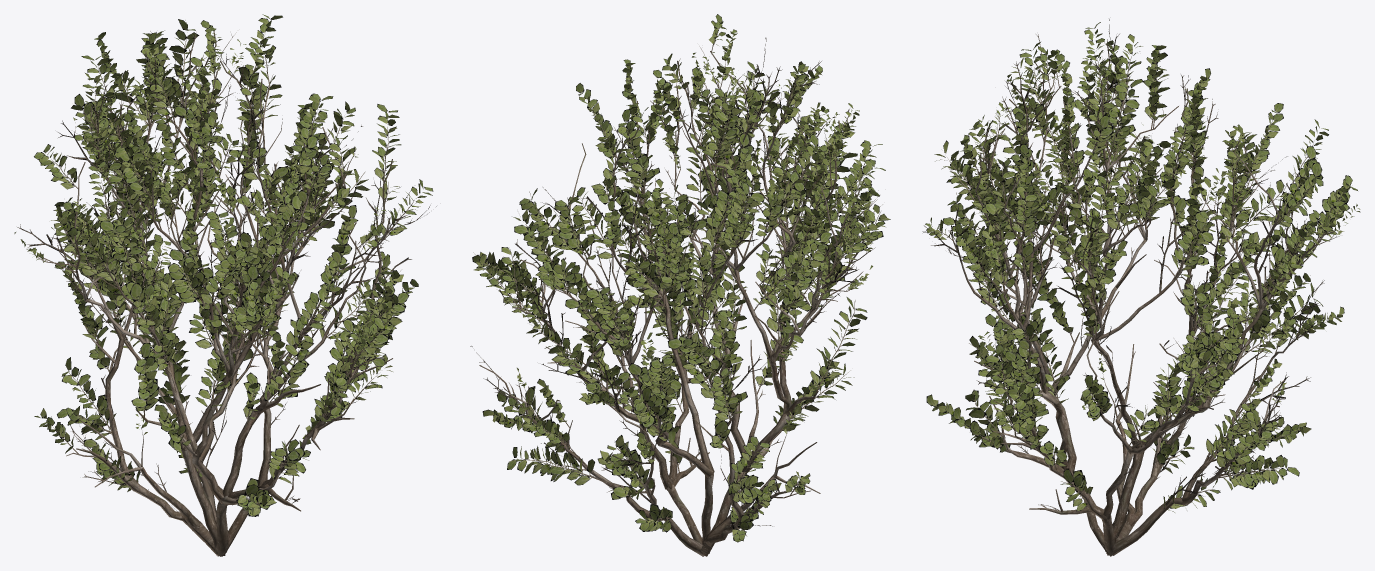
File: olive_b.glb
3 renders of one model, left to right at view 1: azimuth 30°, elevation 25°; view 2: azimuth 150°, elevation 25°; view 3: azimuth 270°, elevation 25°, orthographic. The views are drawn at different scales.
Parts seen in each view (by area): view 1: searsia_lucida_b_LOD0; view 2: searsia_lucida_b_LOD0; view 3: searsia_lucida_b_LOD0.
Boxes of the visible parts, x1,y1,x2,y2 form: searsia_lucida_b_LOD0: (14, 14, 436, 556); searsia_lucida_b_LOD0: (470, 14, 890, 556); searsia_lucida_b_LOD0: (922, 19, 1360, 556).
Bounding box in the file's own units: 1.46 × 1.99 × 1.52.
Materials: 2 (2 with a texture image).
